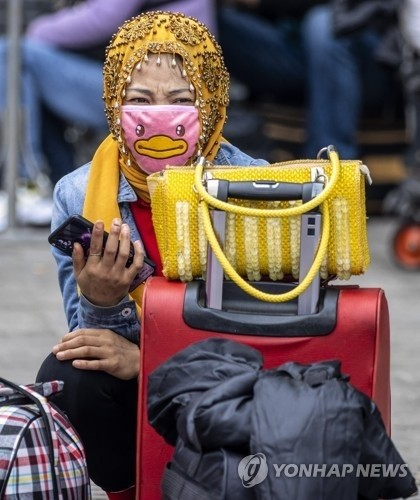face_with_mask: (97, 22, 218, 203)
